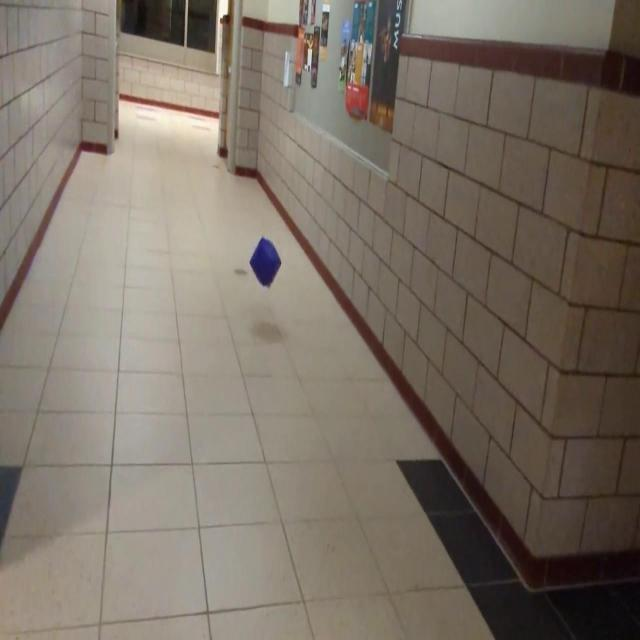frc_cube: (250, 236, 282, 292)
